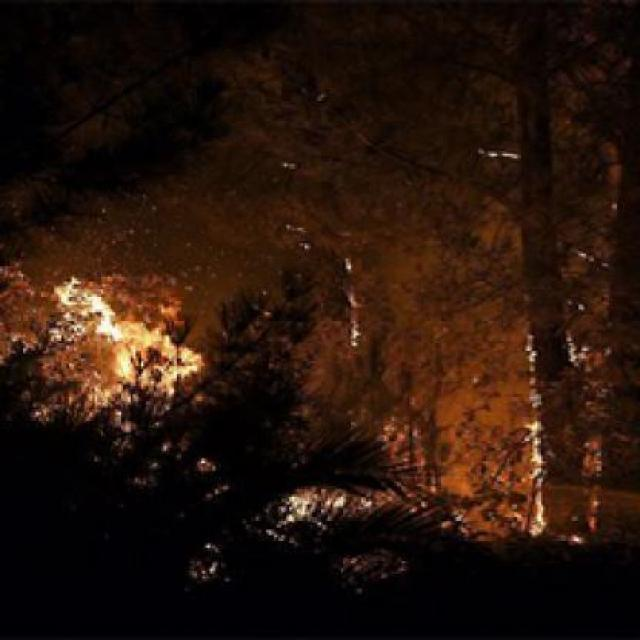Fire: (5, 255, 226, 441)
